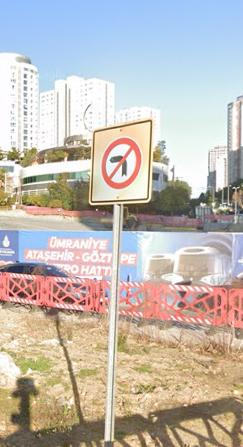leftturnsareforbidden: (103, 139, 140, 187)
